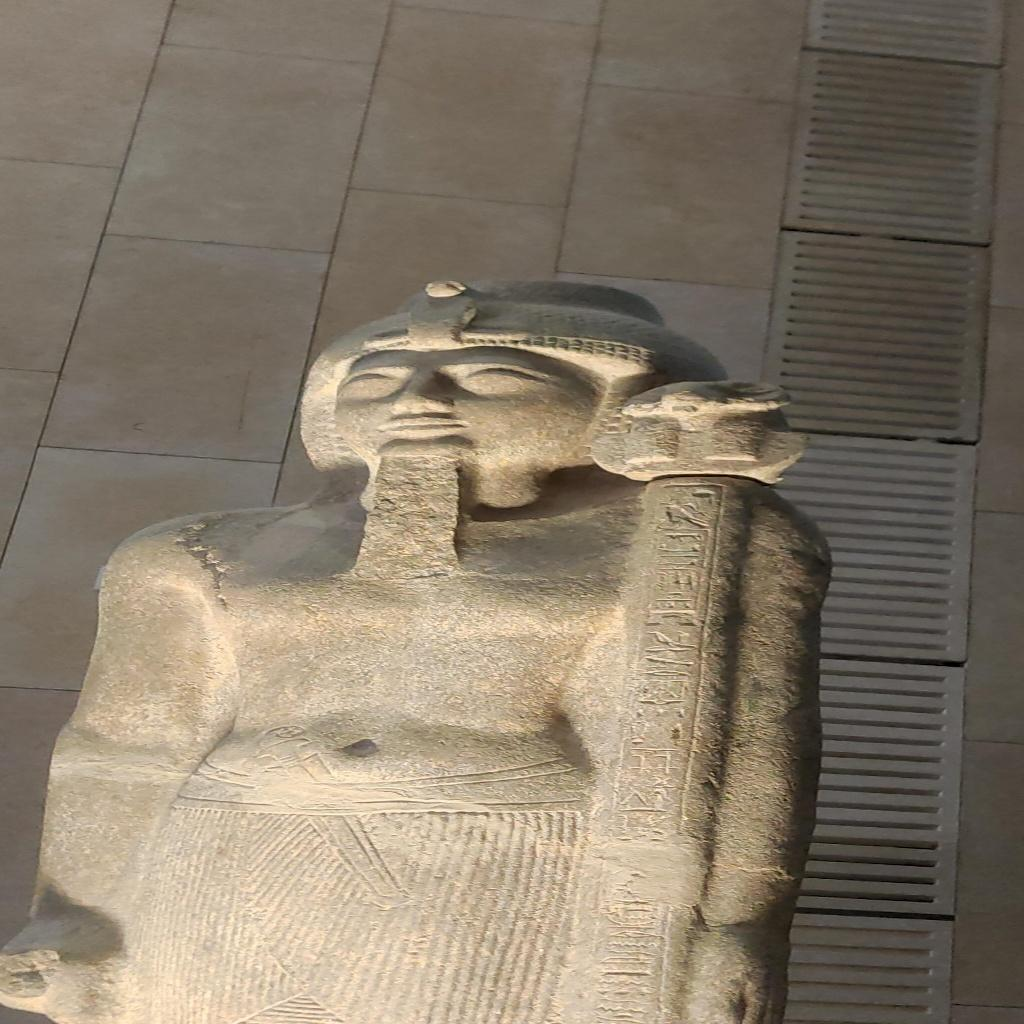Statue of Ramesses III as standard Bearer: (12, 276, 840, 1022)
